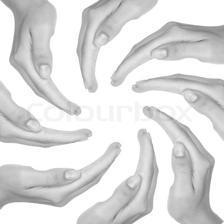Ladder: (85, 29, 137, 211)
